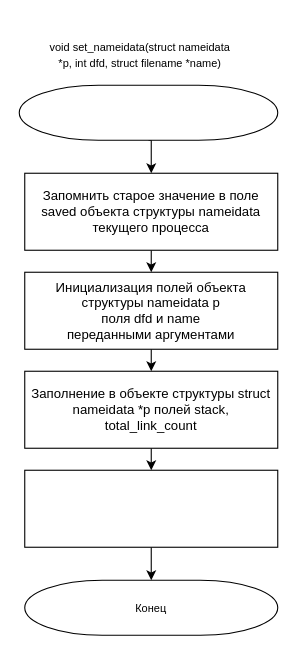
This 297x655 diagram has some shape labels left out. The centre of each missing label's shape, as x and y in pixels:
Начало: (148,112)
Сохранение p в поле nameidata дескриптора (struct task_struct) текущего процесса: (151,508)
